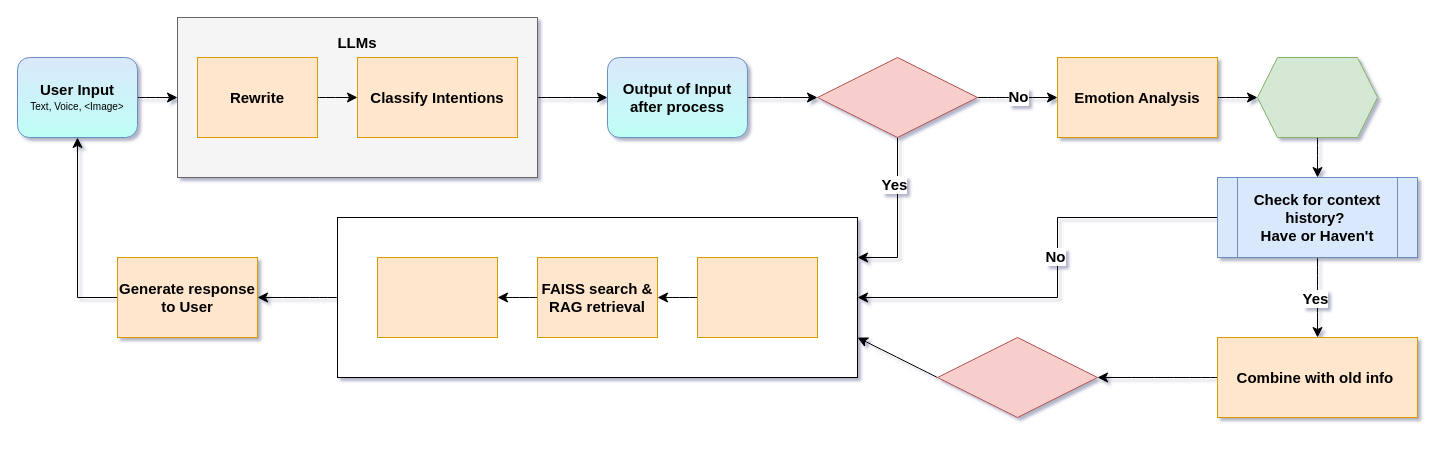
The diagram is 1441 pixels wide and 451 high, and some of its shapes have lost their labels. The centre of each missing label's shape, as x and y in pixels:
"Check Crisis" belongs at point (1017, 377).
"Embbeding" belongs at point (757, 297).
"Emotion Labels and Score" belongs at point (1317, 97).
"Keyword filter" belongs at point (897, 97).
"LLMs System prompt + RAG docs" belongs at point (437, 297).
